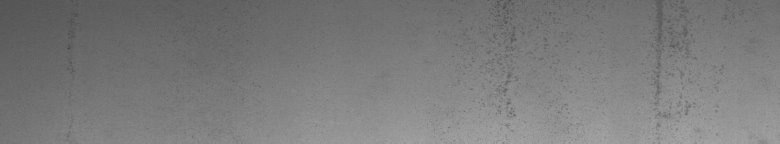ib: (487, 4, 569, 131)
